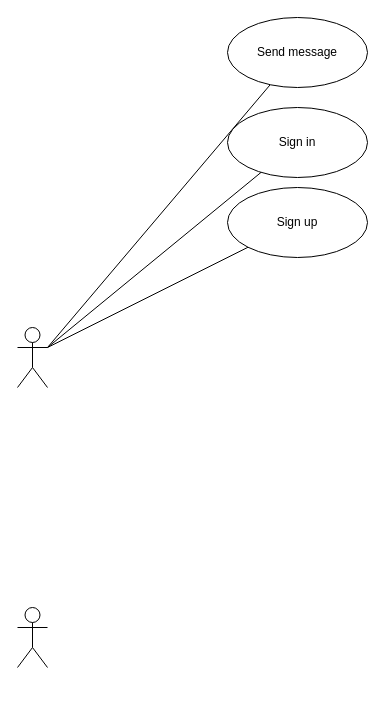
The diagram is 385 pixels wide and 706 high, and some of its shapes have lost their labels. The shapes that lost their labels are listed below. From the top down, each one's centre as x and y in pixels, then its label:
At [32,357]: "User".
At [32,637]: "Peer".
